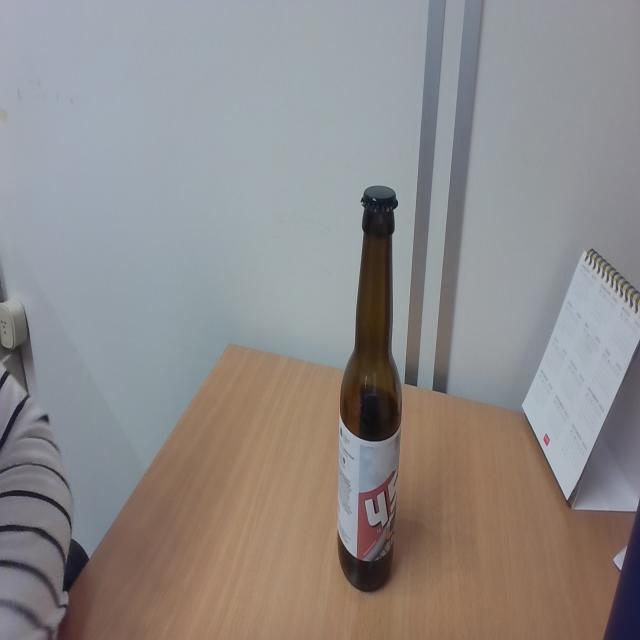Bottle: (337, 184, 402, 592)
Cap: (358, 185, 400, 219)
Label: (339, 423, 401, 562)
